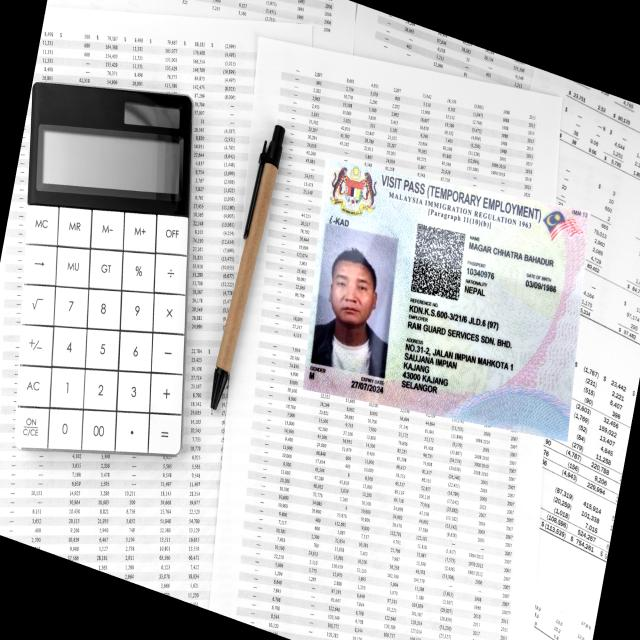ikad-temp: (302, 159, 591, 446)
